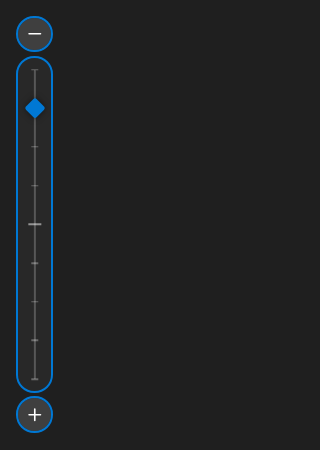
Scenario: CoverSizeSlider › steps with − and +, which are dimmed and do nothing at the ends
Later steps or results of the test are not shown.
Click the button named "Smaller covers" at coordinates (35, 34), box top-left (18, 18), bottom-right (51, 50)
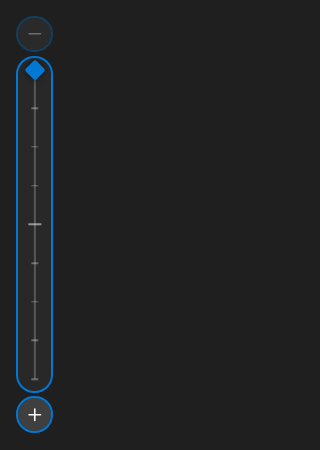
expect the button named "Smaller covers" is disabled: met
Click the button named "Smaller covers" at coordinates (35, 34), box top-left (18, 18), bottom-right (51, 50)
Click the button named "Larger covers" at coordinates (35, 415), box top-left (18, 398), bottom-right (51, 431)
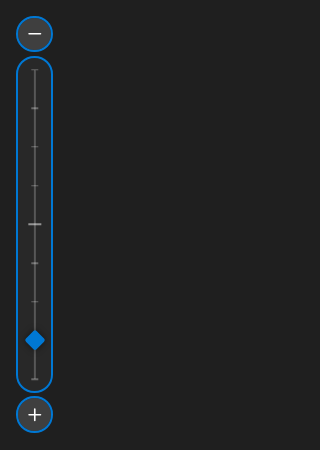
Click the button named "Larger covers" at coordinates (35, 415), box top-left (18, 398), bottom-right (51, 431)
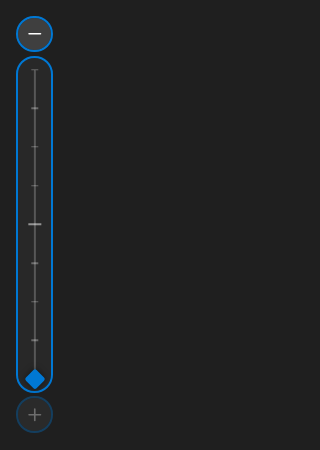
expect the button named "Larger covers" is disabled: met, box top-left (18, 398), bottom-right (51, 431)
